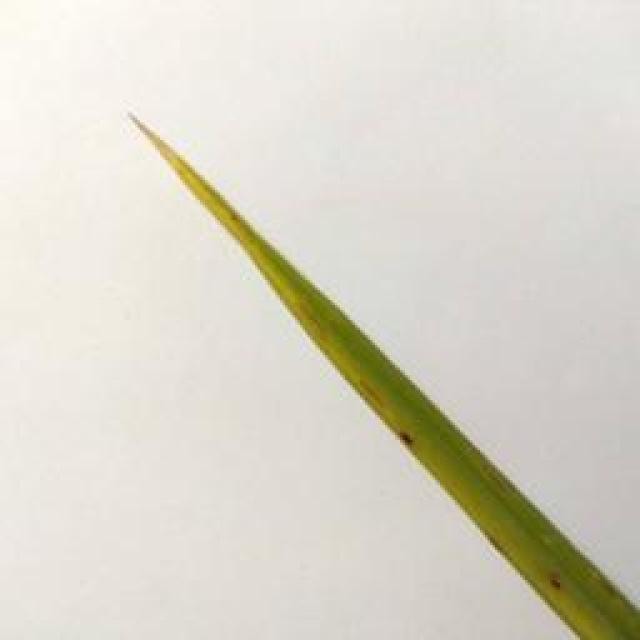Bacterial_Blight: (71, 61, 331, 329)
Brown_Spot: (388, 408, 426, 467), (538, 560, 574, 604)
